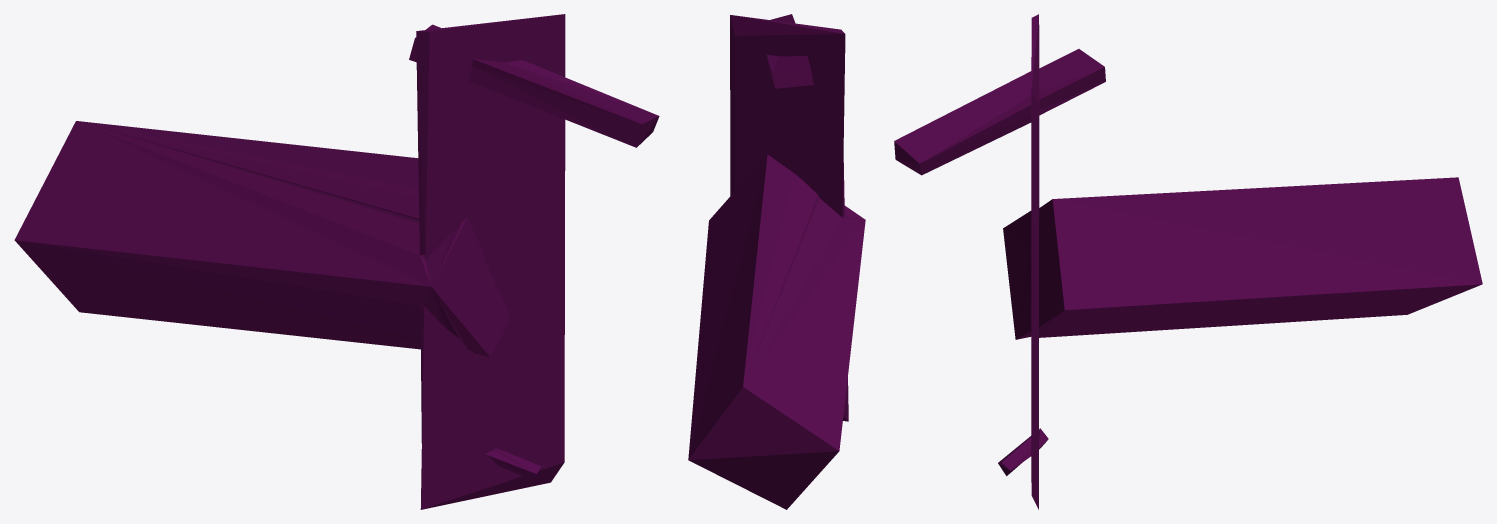
The picture shows the model from 3 angles, left to right: view 1: azimuth 30°, elevation 25°; view 2: azimuth 150°, elevation 25°; view 3: azimuth 270°, elevation 25°; orthographic projection. The views are drawn at different scales.
Visible parts, largest first — view 1: 897_Cube.3622; view 2: 897_Cube.3622; view 3: 897_Cube.3622.
Part boxes in pixels (x1,y1,x2,y2): 897_Cube.3622: (14,14,659,509); 897_Cube.3622: (688,14,865,509); 897_Cube.3622: (894,14,1482,509).
Size of the model in its own units: 10.18 by 12.58 by 15.37.
